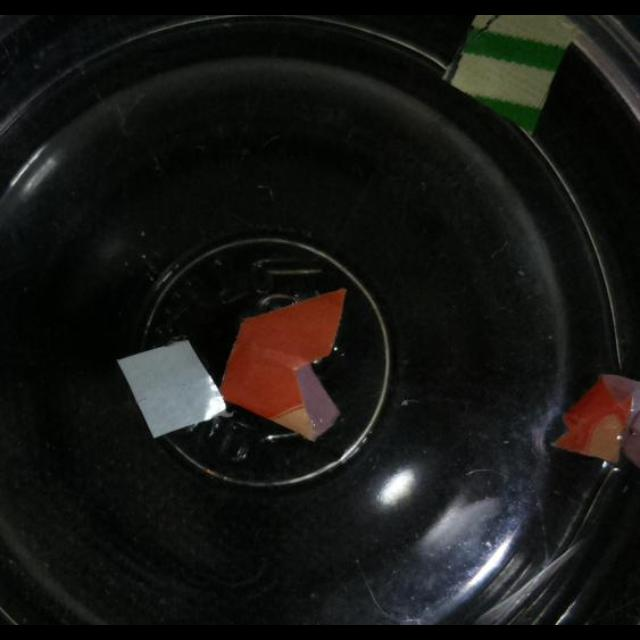Fragment: (217, 291, 359, 441), (436, 15, 576, 132), (116, 338, 227, 439), (550, 371, 640, 474)
